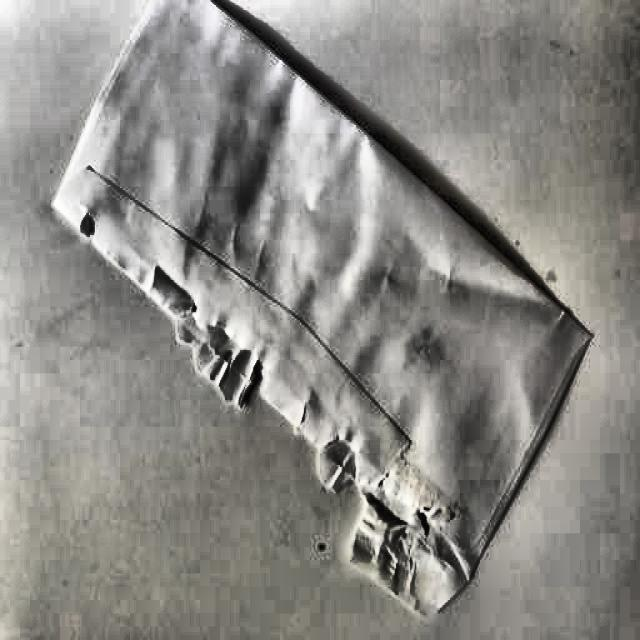paper: (47, 8, 589, 618)
